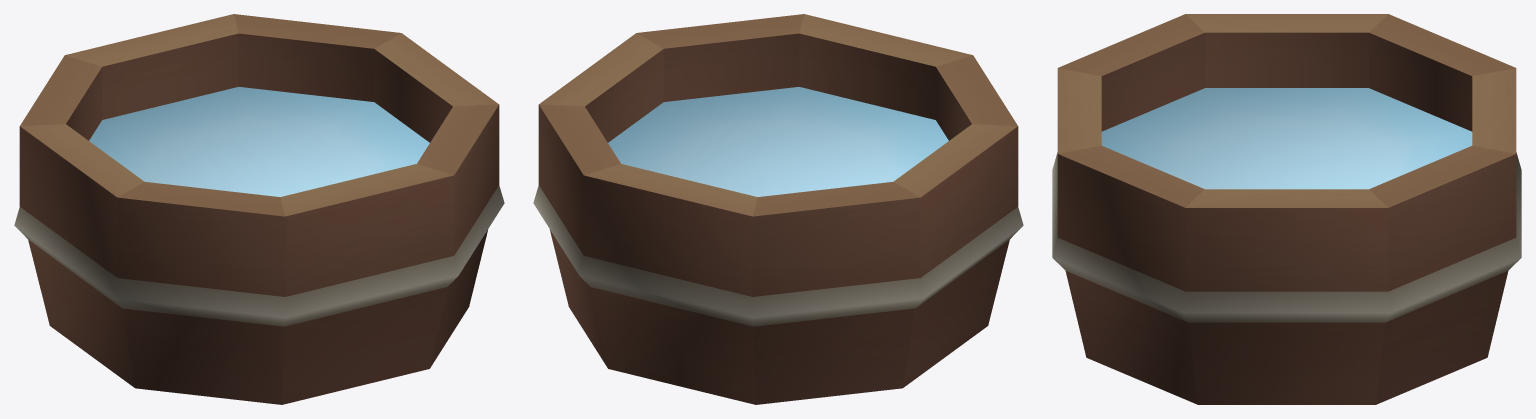
Rendered from tub_water.fbx.
3 views of the same model, side by side, from view 1: azimuth 30°, elevation 25°; view 2: azimuth 150°, elevation 25°; view 3: azimuth 270°, elevation 25° (orthographic). The views are drawn at different scales.
Visible parts, largest first — view 1: tub_water; view 2: tub_water; view 3: tub_water.
Boxes of the visible parts, <box> form: tub_water: <box>14,14,504,404</box>; tub_water: <box>533,14,1023,404</box>; tub_water: <box>1052,14,1521,404</box>.
Bounding box in the file's own units: 102 × 50 × 102.
